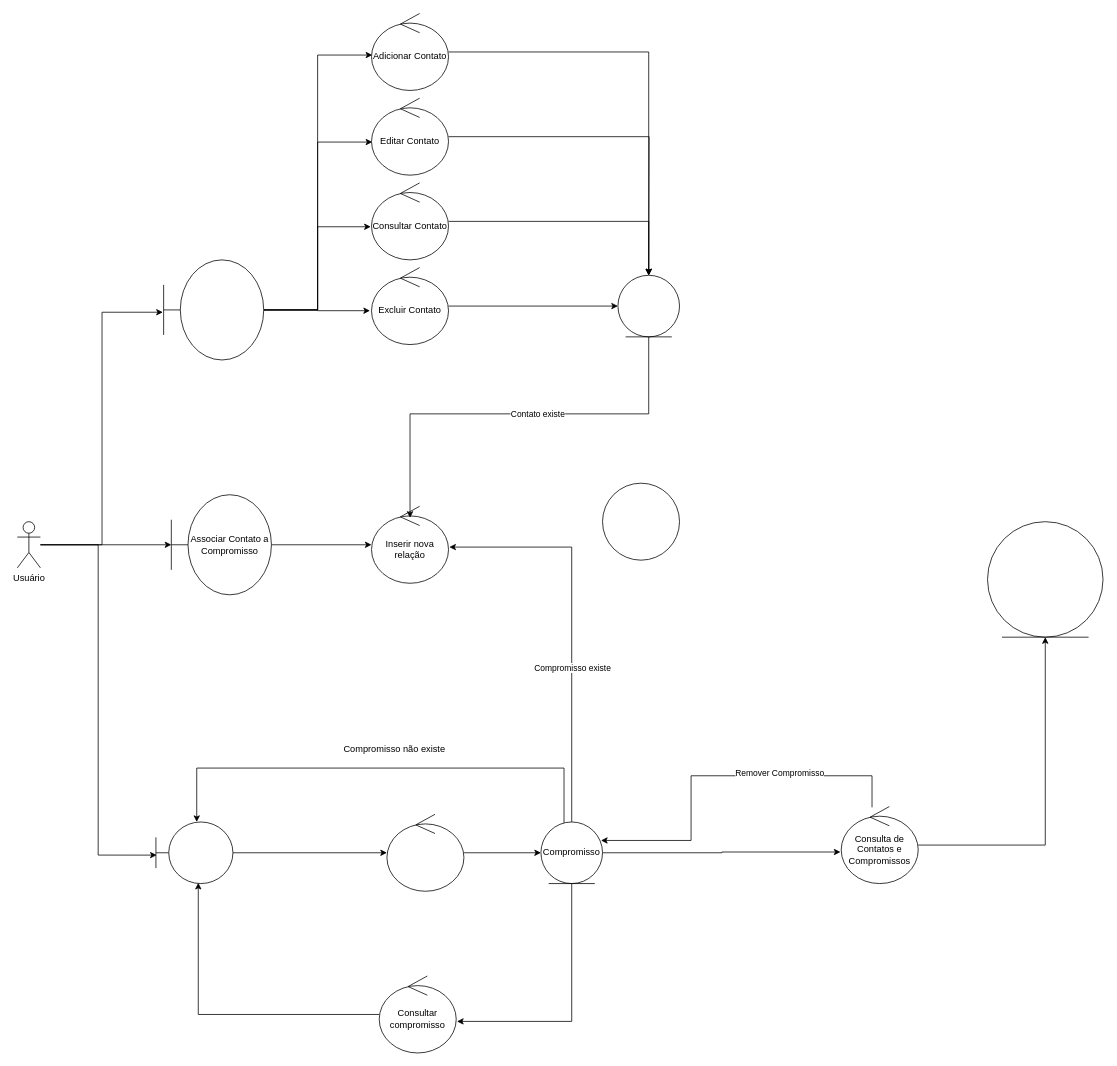
The diagram is 1117 pixels wide and 1066 high, and some of its shapes have lost their labels. The shapes that lost their labels are listed below. From the top down, each one's centre as x and y in pixels, then its label:
(213,309): Novo Contato
(648,306): Contato
(1045,579): contato_compromisso
(194,852): Novo Compromisso
(425,852): Adicionar compromisso
